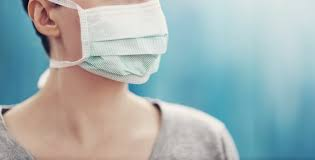with_mask: (26, 1, 187, 106)
